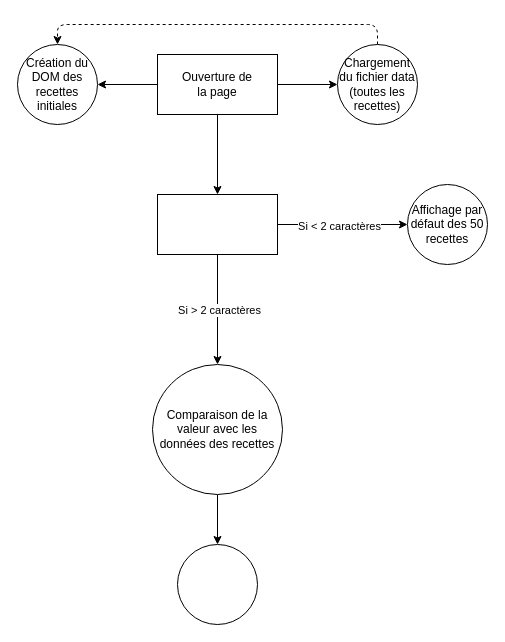
The diagram is 505 pixels wide and 642 high, and some of its shapes have lost their labels. Here are the shapes that lost their labels. From the top down, the box of each, then its label:
(156, 194, 278, 254): Saisie dans le champ de recherche
(176, 544, 258, 624): Affichage des recettes filtrées
